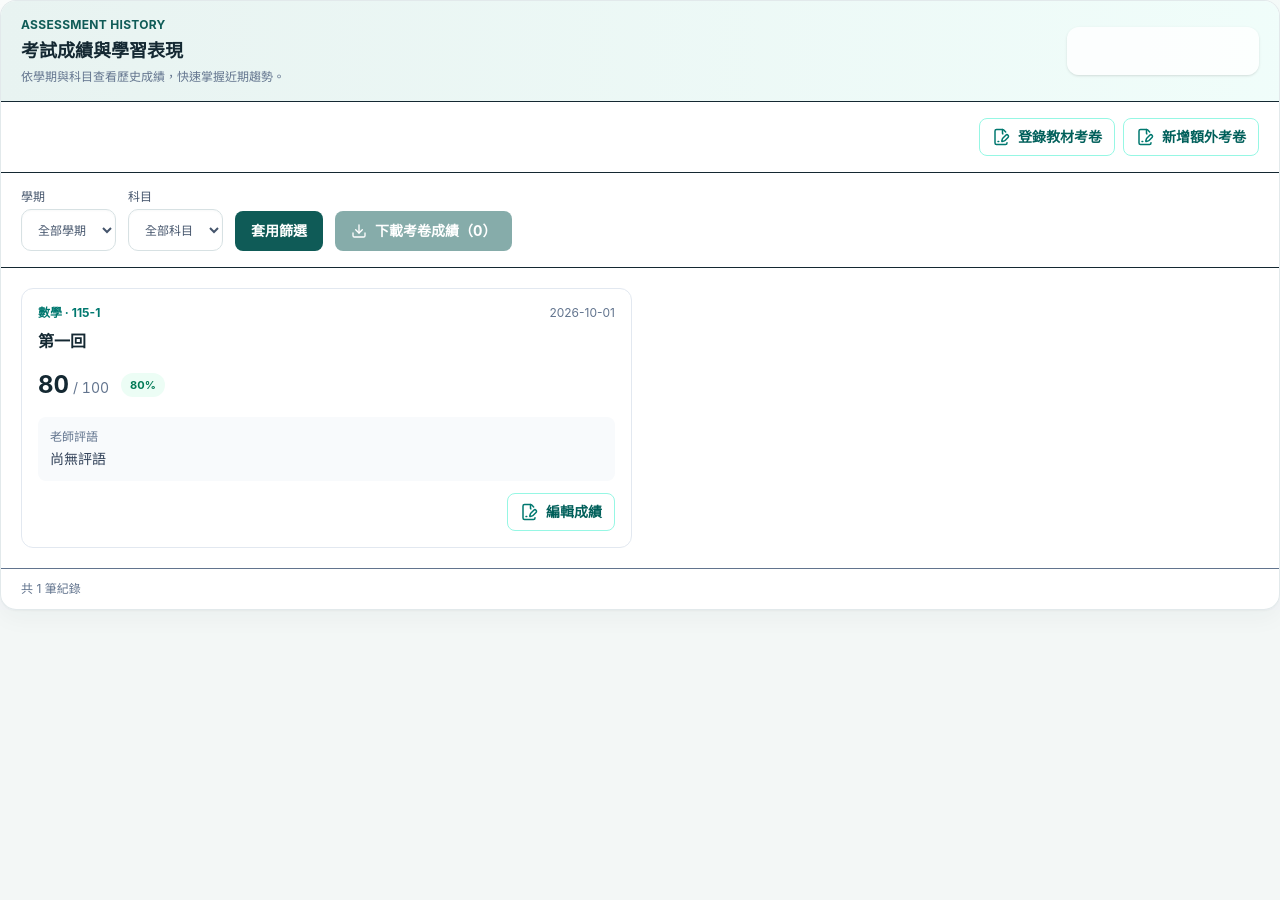
student management dialogs › shows one result card with direct correction and header entry actions
Expected: the text "80" is shown, [38,370,69,399]
Expected: the button "登錄教材考卷" is shown, [979,118,1115,156]
What coordinates should you click on to do the following:
click the button "編輯成績"
I would click on:
 (561, 512)
Its box is [507,493,615,531].
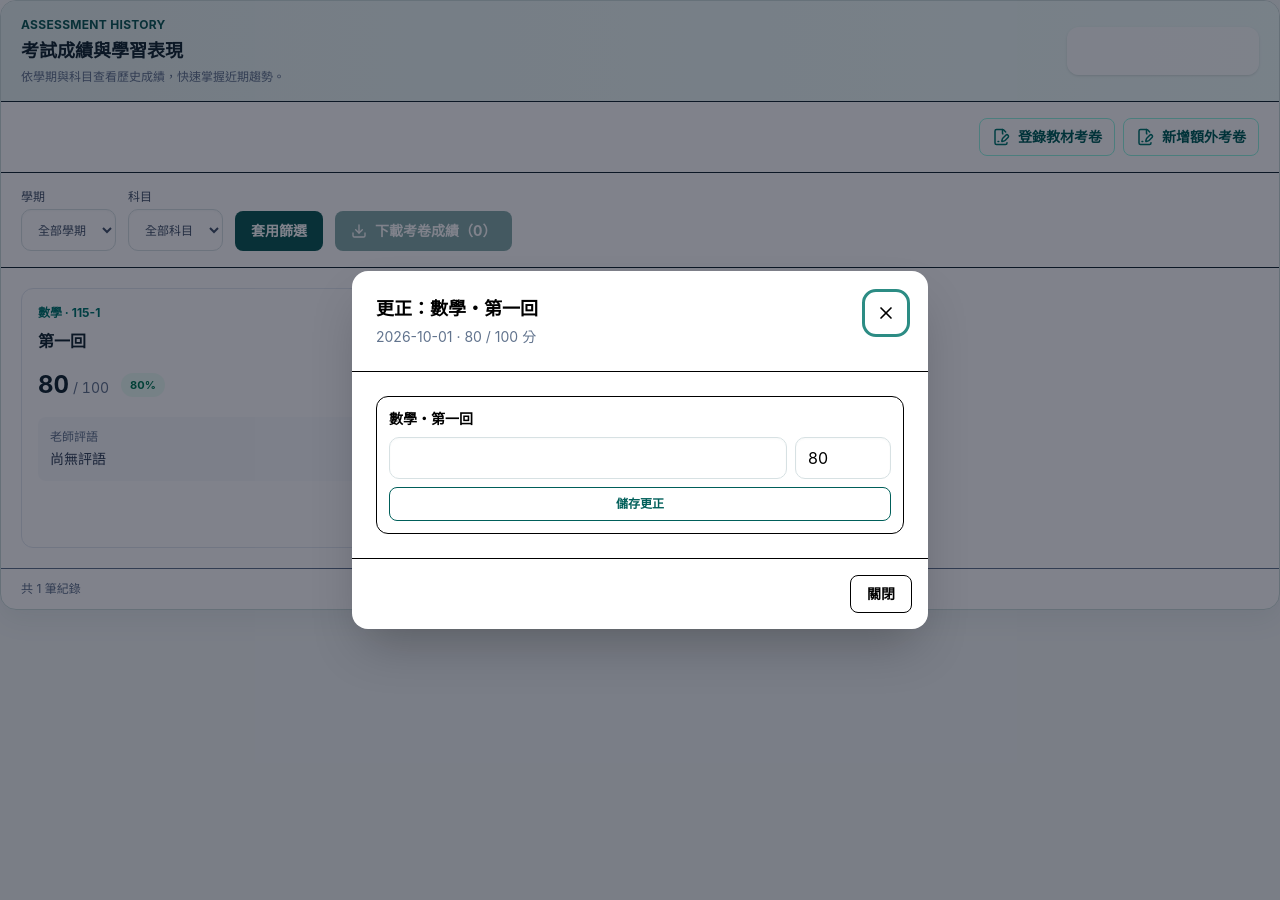
Now the dialog "更正：數學・第一回" is shown, box [352,271,928,629]
